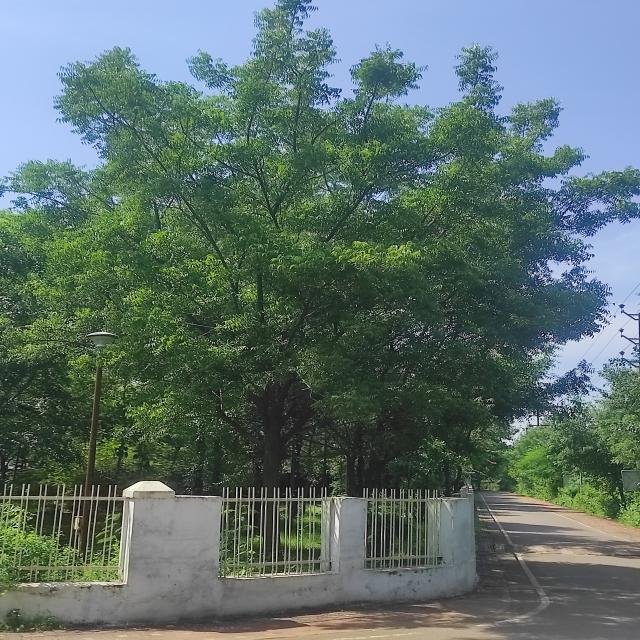Neem-Tree: (56, 27, 570, 460)
